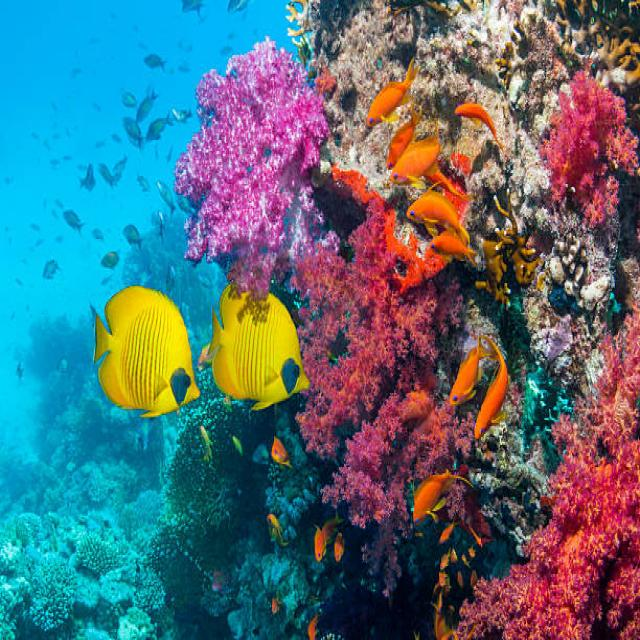ButterflyFish: (96, 284, 200, 419), (212, 282, 310, 414)
